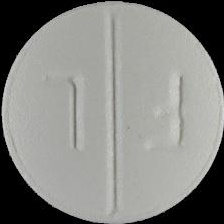63629-2981: (0, 0, 224, 224)
